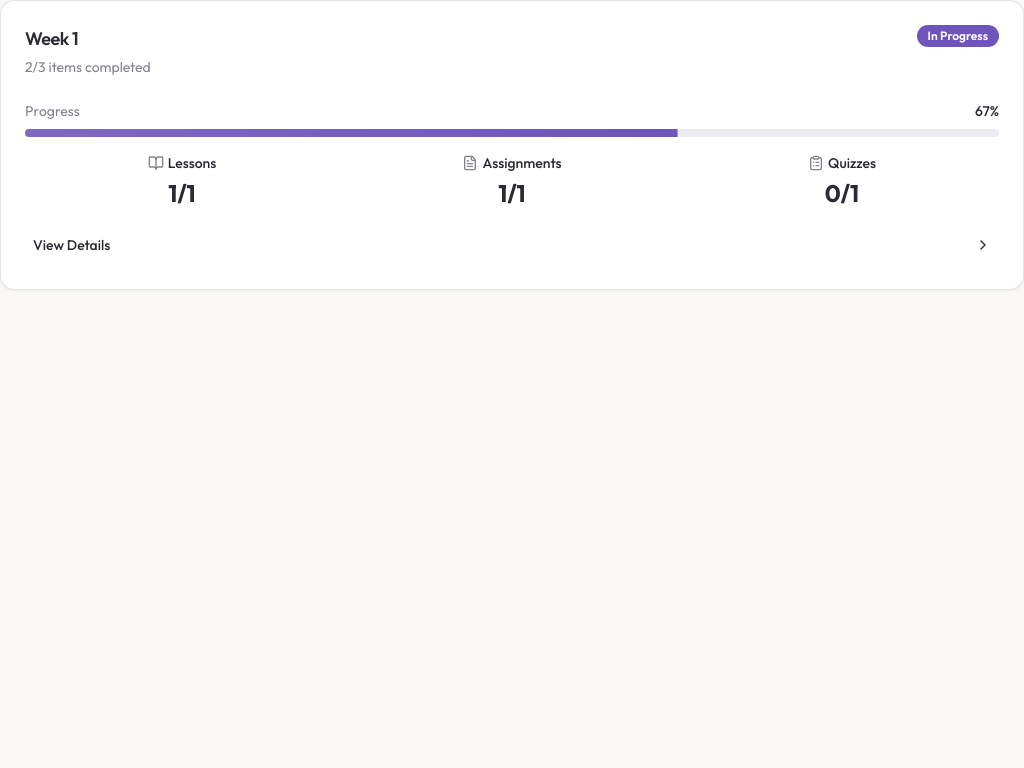
Test: ModuleProgressCard (T-10 r2) › graded with NULL grade and a submitted_at reads graded, score unavailable (not "Submitted, not graded")
Click the button "View Details" at (72,245), box [25,225,999,265]
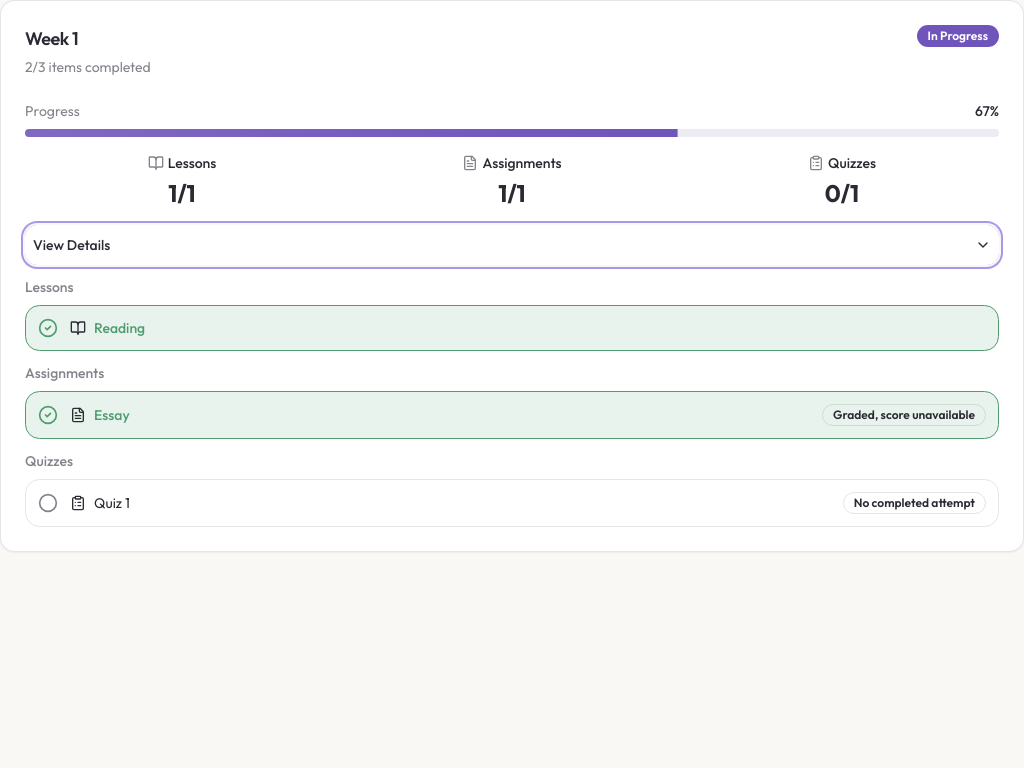
Result: the text with test id "assessment-a1" reads "Graded, score unavailable" at [833,407,975,422]
